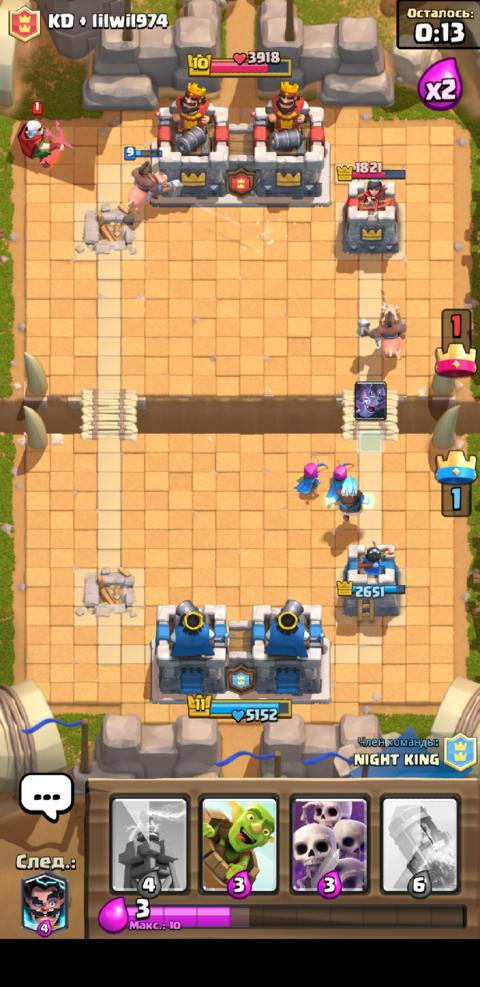ally_archer: (291, 453, 328, 495), (324, 456, 353, 502)
ally_hog_rider: (120, 145, 173, 219), (355, 300, 409, 362)
ally_ice_wizard: (326, 475, 372, 522)
enemy_magic_archer: (14, 99, 73, 173)
